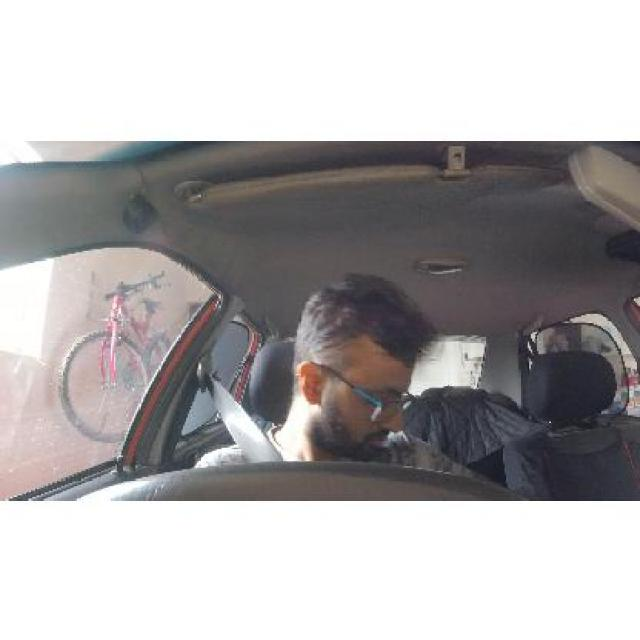drowsy: (284, 276, 433, 456)
